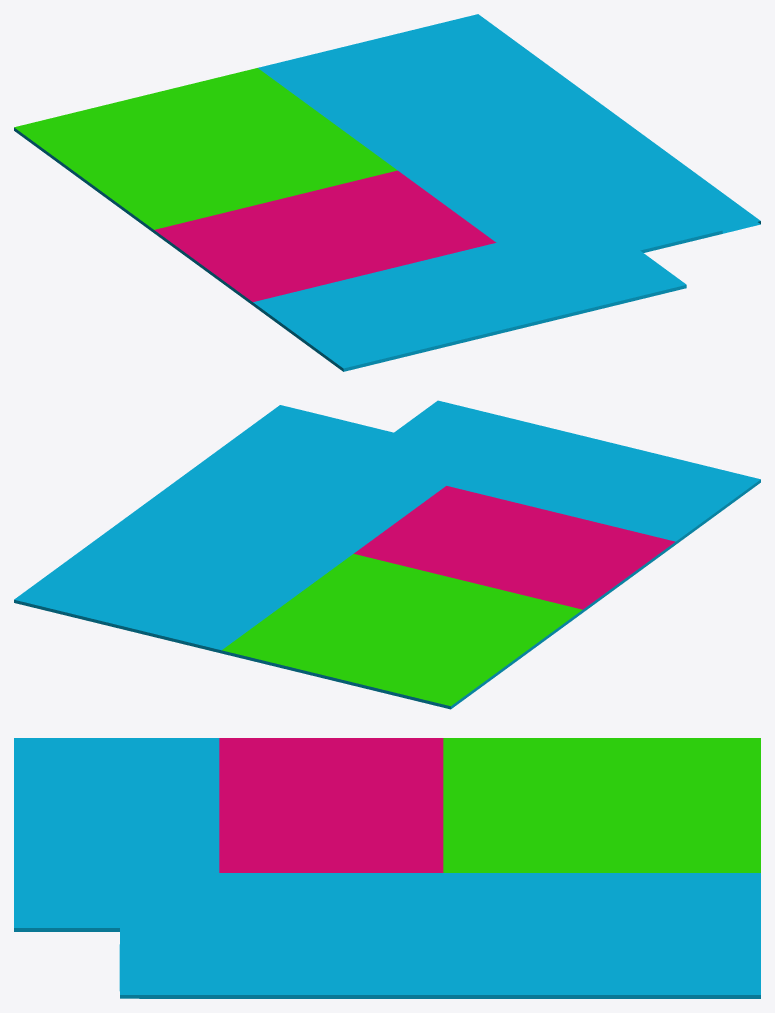
Rendered from BH03B_Floor_01.fbx.
3 views of the same model, one above another, from view 1: azimuth 30°, elevation 25°; view 2: azimuth 150°, elevation 25°; view 3: azimuth 270°, elevation 25° (orthographic). The views are drawn at different scales.
Parts seen in each view (by area): view 1: BH03B_Floor_01; view 2: BH03B_Floor_01; view 3: BH03B_Floor_01.
Boxes of the visible parts, x1=… form: BH03B_Floor_01: x1=14, y1=14, x2=760, y2=371; BH03B_Floor_01: x1=14, y1=400, x2=760, y2=709; BH03B_Floor_01: x1=14, y1=738, x2=760, y2=998.
Size of the model in its own units: 1137 by 8.07 by 1397.
